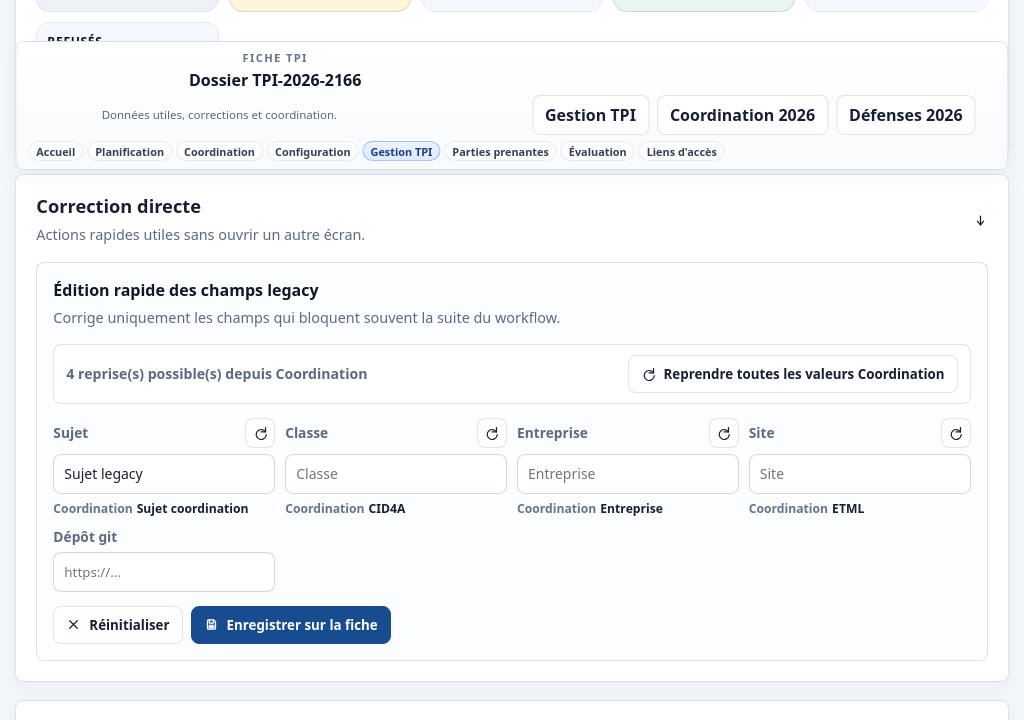
Test case: TpiDetailPage › propose de reprendre les valeurs coordination dans l édition rapide
(page scrolled)
Click the button "Reprendre toutes les valeurs Coordination": (793, 374) [628,354,958,392]
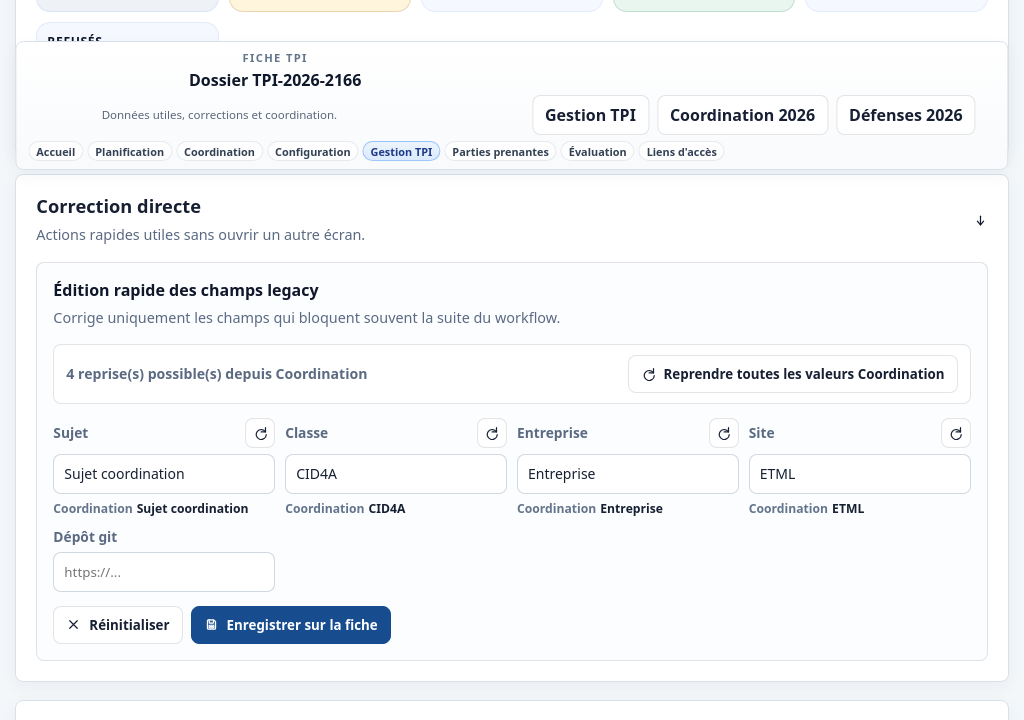
Now the field labelled "Classe" holds "CID4A", box [285,454,507,494]
Now the field labelled "Entreprise" holds "Entreprise", box [517,454,739,494]
Now the field labelled "Site" holds "ETML", box [749,454,971,494]
